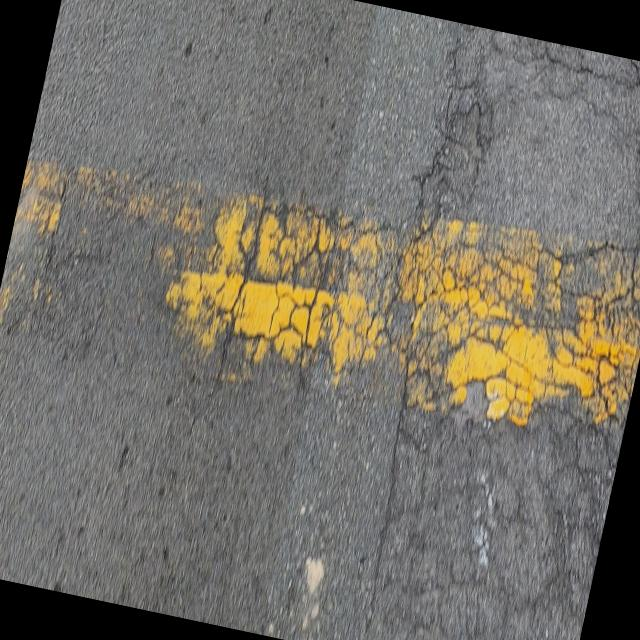Retak-Buaya: (194, 202, 640, 640), (417, 24, 640, 219)
